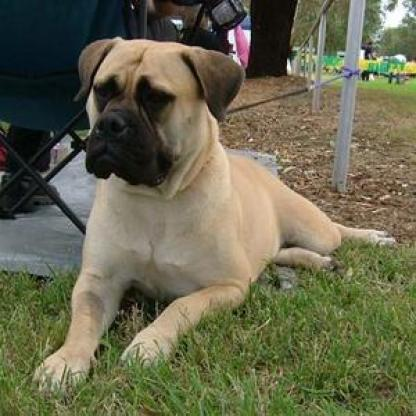bull_mastiff: (26, 33, 395, 396)
